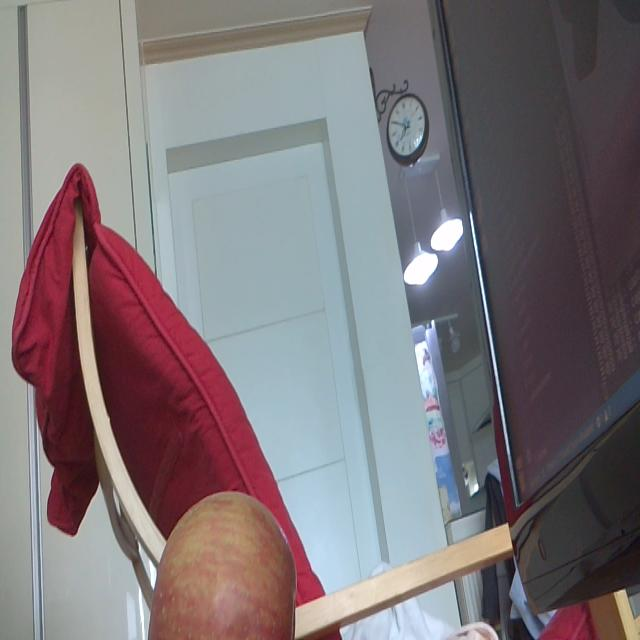apple: (142, 490, 298, 640)
